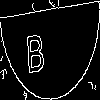B: (25, 24, 46, 74)
